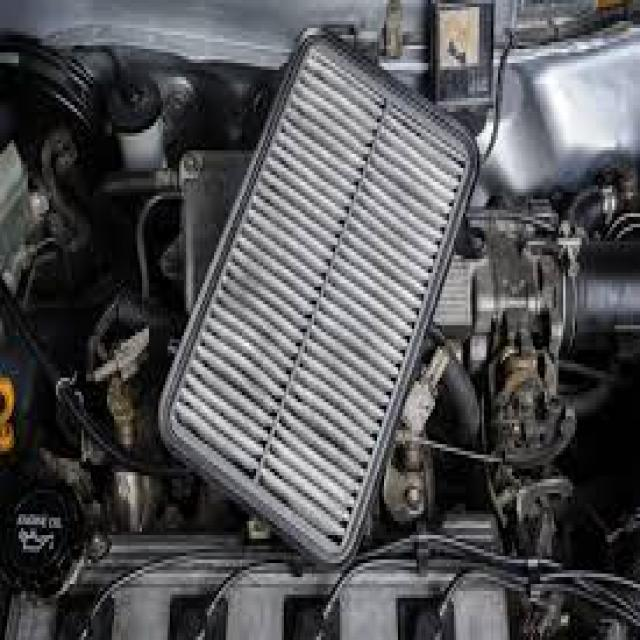air_filter: (163, 18, 489, 569)
